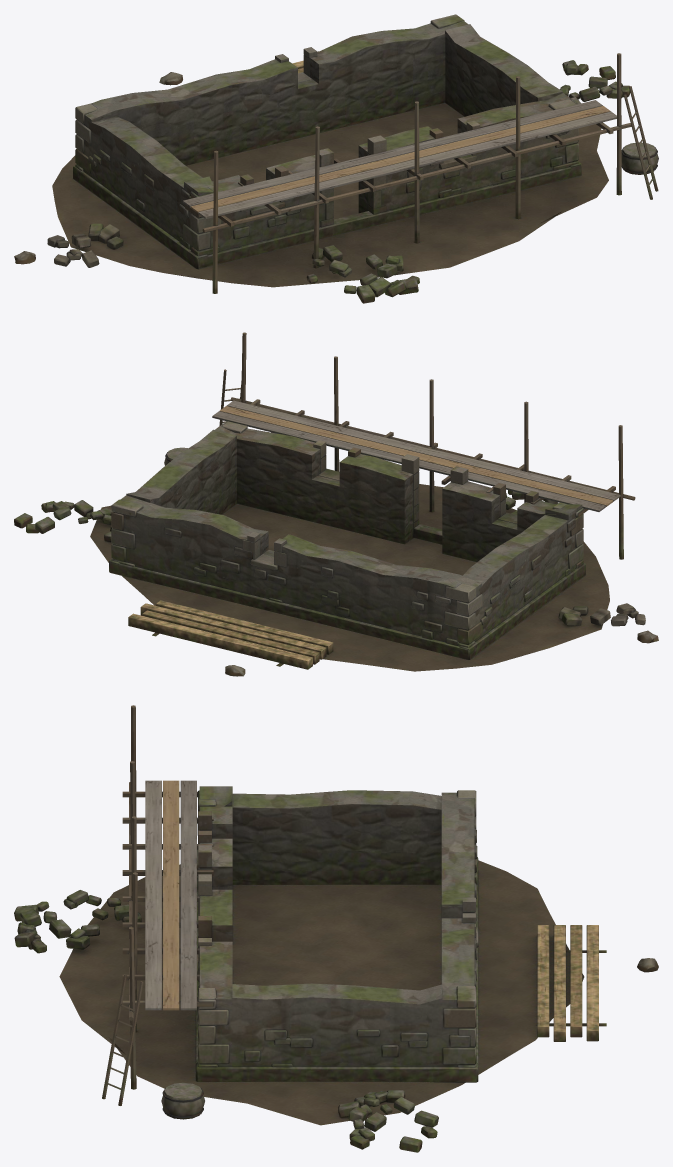
The model's file is house_c_build2.glb.
The picture shows the model from 3 angles, top to bottom: view 1: azimuth 30°, elevation 25°; view 2: azimuth 150°, elevation 25°; view 3: azimuth 270°, elevation 25°; orthographic projection. The views are drawn at different scales.
Parts seen in each view (by area): view 1: house_c_build2_LOD0; view 2: house_c_build2_LOD0; view 3: house_c_build2_LOD0.
Part boxes in pixels (x1=…): house_c_build2_LOD0: x1=14, y1=14, x2=658, y2=303; house_c_build2_LOD0: x1=14, y1=332, x2=658, y2=676; house_c_build2_LOD0: x1=14, y1=705, x2=658, y2=1152.
Size of what is drawn, in the model's own units: 15.24 by 3.2 by 11.73.
Materials: 1 (1 with a texture image).
